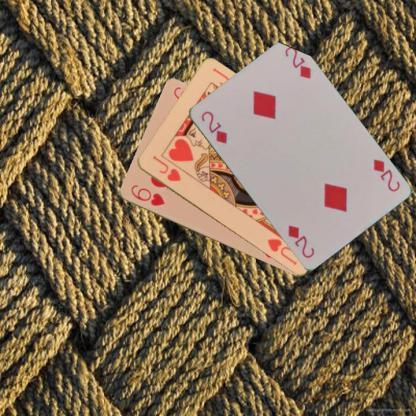2d: (198, 108, 229, 145), (370, 156, 401, 193)
6h: (128, 182, 166, 209)
Jh: (149, 152, 182, 184)
